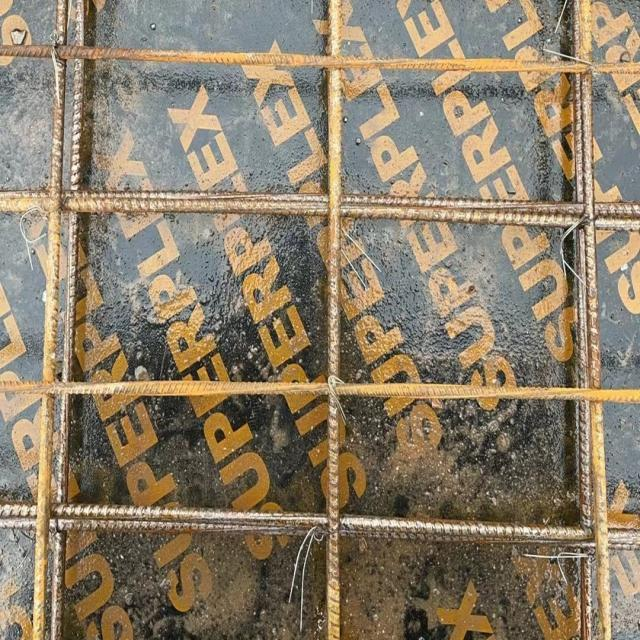ribbed bar: (0, 498, 639, 552), (572, 0, 616, 639), (0, 187, 639, 230), (50, 0, 89, 639), (0, 42, 639, 75), (32, 0, 65, 639), (0, 377, 639, 403), (323, 0, 341, 639)
